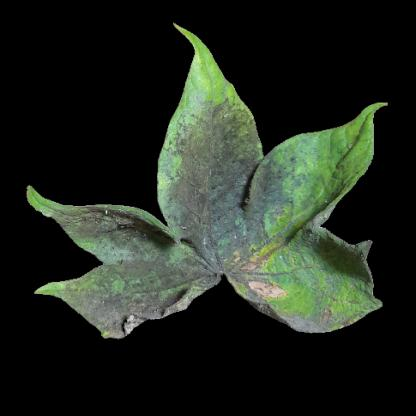curl_stage1: (198, 53, 227, 103)
sooty: (187, 105, 248, 261), (82, 214, 168, 268), (93, 276, 173, 325)
